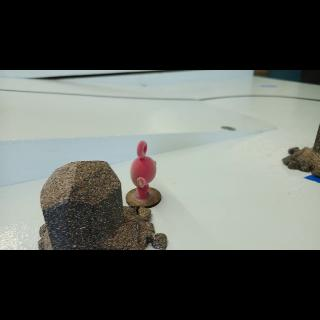teletubby: (130, 141, 156, 200)
